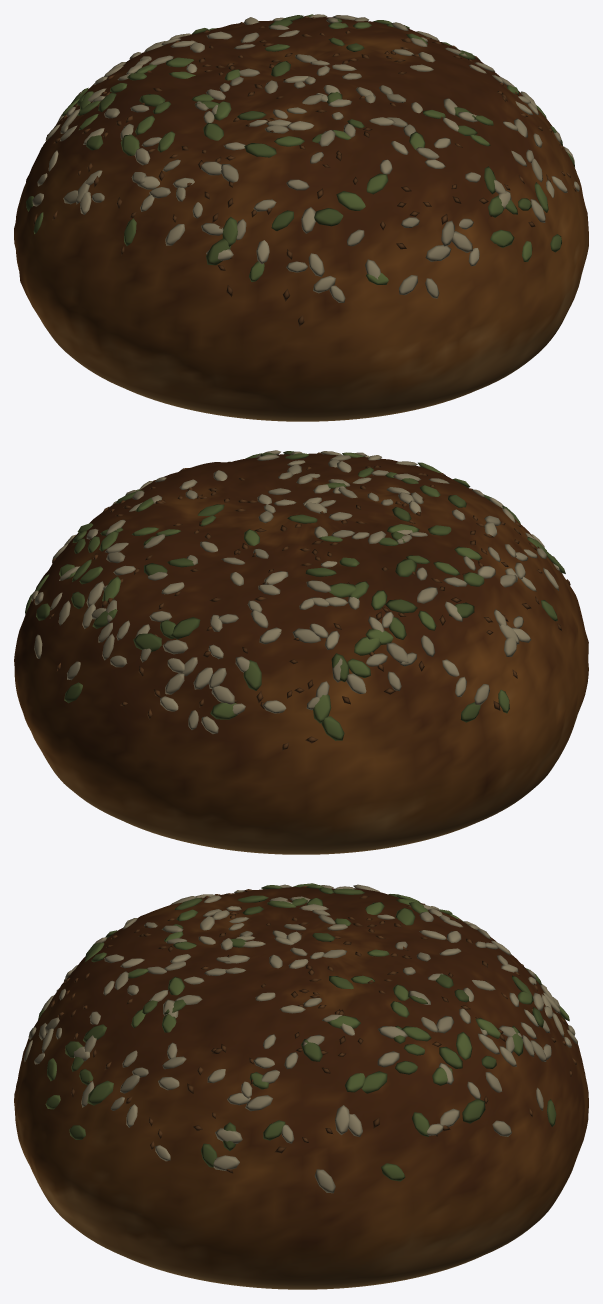
The model's file is bergsteiger-750g.glb.
The picture shows the model from 3 angles, top to bottom: view 1: azimuth 30°, elevation 25°; view 2: azimuth 150°, elevation 25°; view 3: azimuth 270°, elevation 25°; orthographic projection.
Parts seen in each view (by area): view 1: bergsteiger-750g; view 2: bergsteiger-750g; view 3: bergsteiger-750g.
Boxes of the visible parts, box(x1,y1,x2,y2) form: bergsteiger-750g: box(14, 14, 588, 421); bergsteiger-750g: box(14, 450, 588, 854); bergsteiger-750g: box(14, 883, 588, 1289).
Size of the model in its own units: 0.206 by 0.0983 by 0.206.
